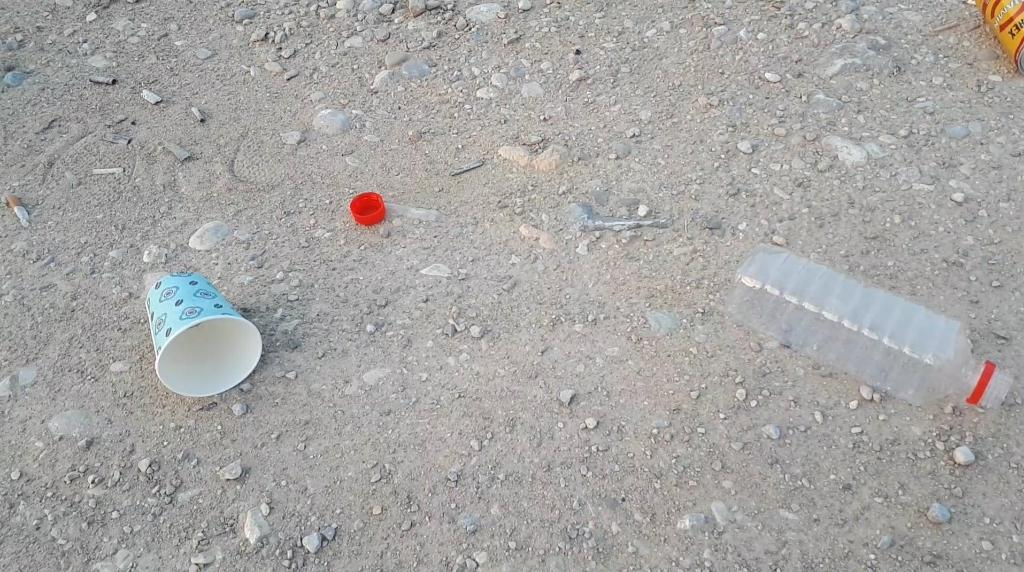garbage: (723, 242, 1014, 411), (975, 0, 1023, 74)
